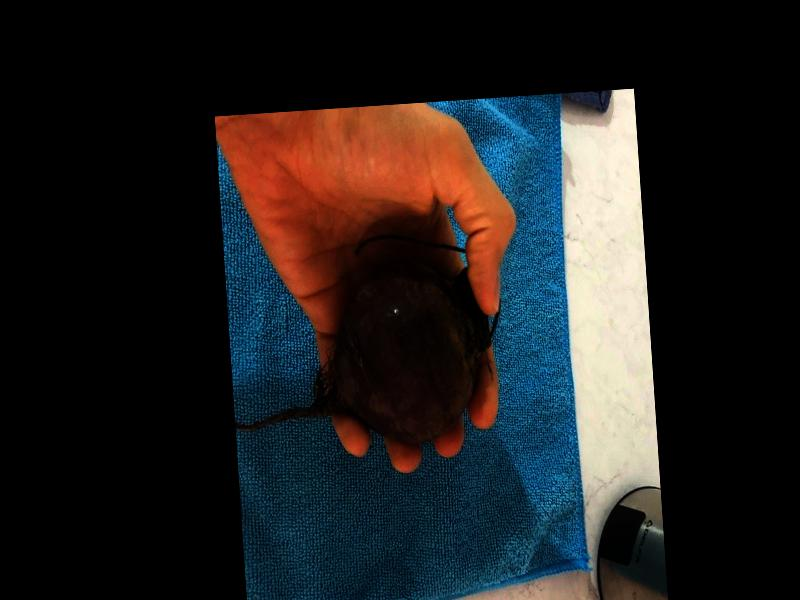Beet: (223, 228, 508, 456)
